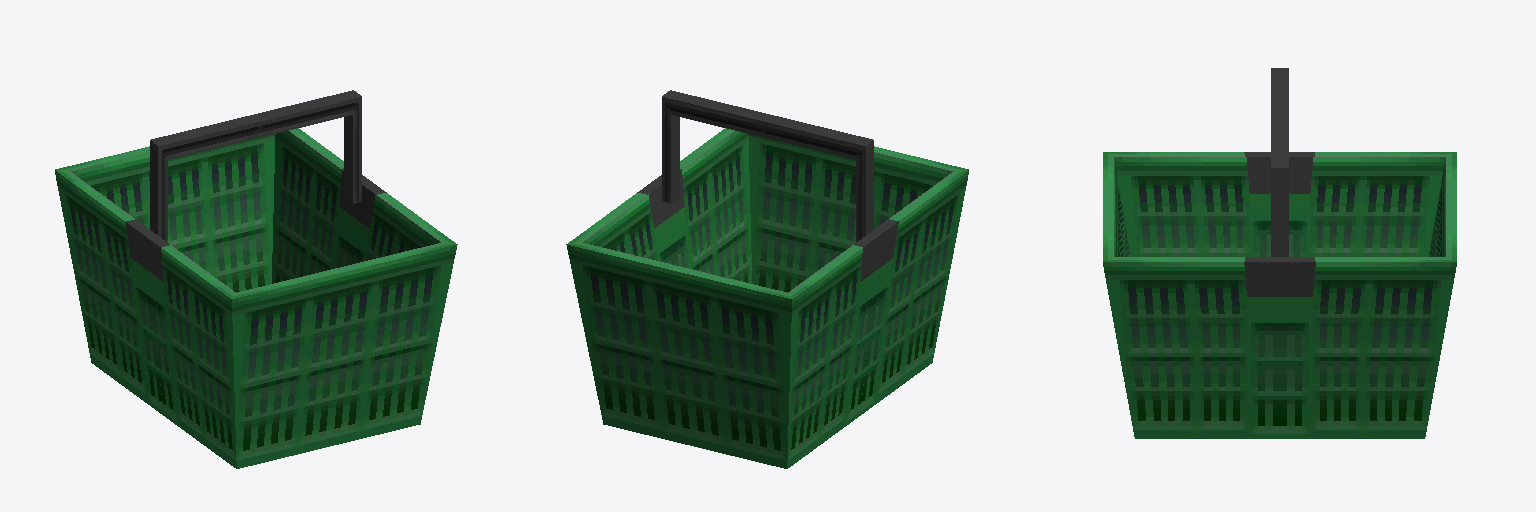
The picture shows the model from 3 angles: view 1: azimuth 30°, elevation 25°; view 2: azimuth 150°, elevation 25°; view 3: azimuth 270°, elevation 25°; orthographic projection.
Parts seen in each view (by area): view 1: _0_0_node__0_0; view 2: _0_0_node__0_0; view 3: _0_0_node__0_0.
Boxes of the visible parts, <box> form: _0_0_node__0_0: <box>55,90,457,468</box>; _0_0_node__0_0: <box>566,90,968,468</box>; _0_0_node__0_0: <box>1103,68,1456,438</box>.
Size of the model in its own units: 4.42 by 5.15 by 6.01.
1 materials, 1 textured.